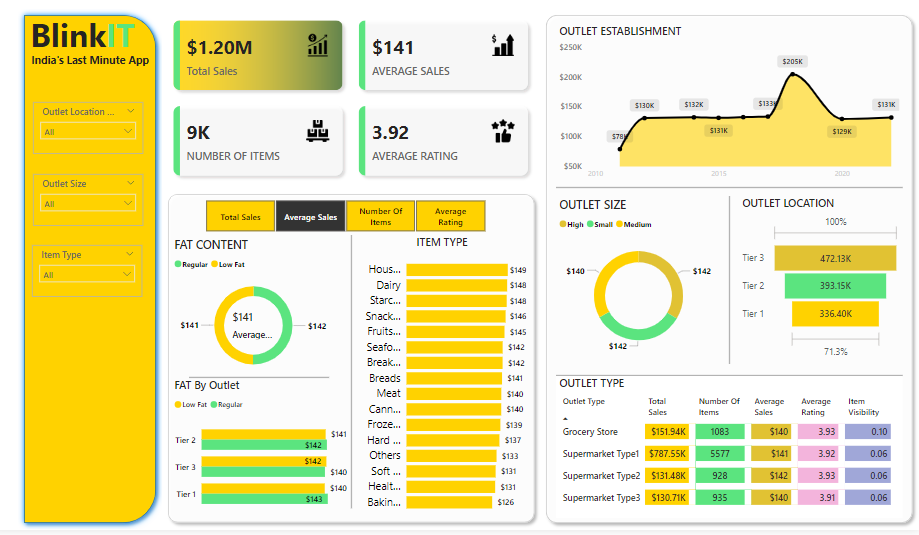

This screenshot's page, from the dashboard's own definition file:
{"tool":"powerbi","page":{"name":"Page 1","canvas":[1400,800],"ordinal":0},"visuals":[{"type":"shape","box":[42.3,16.5,216.8,782.7],"z":0},{"type":"textbox","box":[55.1,16.5,203.9,80.8],"z":1000},{"type":"textbox","box":[42.3,77.2,216.8,40.4],"z":2000},{"type":"cardVisual","fields":{"Data":["BlinkIT Grocery Data.Total Sales","BlinkIT Grocery Data.Average Sales","BlinkIT Grocery Data.Number Of Items","BlinkIT Grocery Data.Average Rating"]},"box":[258.9,16.6,569,269.5],"z":3000},{"type":"shape","box":[259.1,286.6,569.6,512.6],"z":4000},{"type":"donutChart","title":"FAT CONTENT","fields":{"Y":["BlinkIT Grocery Data.Average Sales"],"Category":["BlinkIT Grocery Data.Item Fat Content"]},"box":[271.9,358.3,248,218.6],"z":5000},{"type":"cardVisual","fields":{"Data":["BlinkIT Grocery Data.Average Sales"]},"box":[347.7,451.6,99.4,67.7],"z":6000},{"type":"slicer","fields":{"Values":["metrics.metrics"]},"box":[299.6,298.1,469.7,60.2],"z":7000},{"type":"clusteredBarChart","title":"FAT By Outlet","fields":{"Y":["BlinkIT Grocery Data.Average Sales"],"Category":["BlinkIT Grocery Data.Outlet Location Type"],"Series":["BlinkIT Grocery Data.Item Fat Content"]},"box":[272.5,572,271,212.3],"z":8000},{"type":"shape","box":[299.5,551.2,211.3,40.4],"z":9000},{"type":"shape","box":[503.4,356.4,82.7,411.5],"z":10000},{"type":"barChart","title":"ITEM TYPE","fields":{"Y":["BlinkIT Grocery Data.Average Sales"],"Category":["BlinkIT Grocery Data.Item Type"]},"box":[547.5,356.4,264.6,426.2],"z":11000},{"type":"shape","box":[828.6,16.5,569.6,782.7],"z":12000},{"type":"lineChart","title":"OUTLET ESTABLISHMENT","fields":{"Category":["BlinkIT Grocery Data.Outlet Establishment Year"],"Y":["BlinkIT Grocery Data.Total Sales"]},"box":[852.5,38.6,521.8,242.5],"z":13000},{"type":"shape","box":[852,264.9,522.4,40.6],"z":14000},{"type":"donutChart","title":"OUTLET SIZE","fields":{"Y":["BlinkIT Grocery Data.Average Sales"],"Category":["BlinkIT Grocery Data.Outlet Size"]},"box":[852,298.1,248.4,249.9],"z":15000},{"type":"shape","box":[1071.8,298.1,82.8,252.9],"z":16000},{"type":"funnel","title":"OUTLET LOCATION","fields":{"Category":["BlinkIT Grocery Data.Outlet Location Type"],"Y":["Sum(BlinkIT Grocery Data.Sales)"]},"box":[1127.5,298.1,246.9,249.9],"z":17000},{"type":"shape","box":[852,548,522.4,40.6],"z":18000},{"type":"pivotTable","title":"OUTLET TYPE","fields":{"Rows":["BlinkIT Grocery Data.Outlet Type"],"Values":["BlinkIT Grocery Data.Total Sales","BlinkIT Grocery Data.Number Of Items","BlinkIT Grocery Data.Average Sales","BlinkIT Grocery Data.Average Rating","Avg(BlinkIT Grocery Data.Item Visibility)"]},"box":[852,569,522.4,213.8],"z":19000},{"type":"slicer","fields":{"Values":["BlinkIT Grocery Data.Outlet Location Type"]},"box":[64.7,156.6,165.6,78.3],"z":20000},{"type":"slicer","fields":{"Values":["BlinkIT Grocery Data.Outlet Size"]},"box":[64.7,264.9,165.6,78.3],"z":21000},{"type":"slicer","fields":{"Values":["BlinkIT Grocery Data.Item Type"]},"box":[63.2,371.8,165.6,78.3],"z":22000}]}

Visuals, with their boxes in screenshot pixels (x1, y1, x2, y2), scaled from the page's 1400x800 canvas onto the 919x535 screenshot:
shape: [left=28, top=11, right=170, bottom=534]
textbox: [left=36, top=11, right=170, bottom=65]
textbox: [left=28, top=52, right=170, bottom=79]
cardVisual - BlinkIT Grocery Data.Total Sales x BlinkIT Grocery Data.Average Sales: [left=170, top=11, right=543, bottom=191]
shape: [left=170, top=192, right=544, bottom=534]
"FAT CONTENT" donutChart: [left=178, top=240, right=341, bottom=386]
cardVisual - BlinkIT Grocery Data.Average Sales: [left=228, top=302, right=293, bottom=347]
slicer - metrics.metrics: [left=197, top=199, right=505, bottom=240]
"FAT By Outlet" clusteredBarChart: [left=179, top=383, right=357, bottom=525]
shape: [left=197, top=369, right=335, bottom=396]
shape: [left=330, top=238, right=385, bottom=514]
"ITEM TYPE" barChart: [left=359, top=238, right=533, bottom=523]
shape: [left=544, top=11, right=918, bottom=534]
"OUTLET ESTABLISHMENT" lineChart: [left=560, top=26, right=902, bottom=188]
shape: [left=559, top=177, right=902, bottom=204]
"OUTLET SIZE" donutChart: [left=559, top=199, right=722, bottom=366]
shape: [left=704, top=199, right=758, bottom=368]
"OUTLET LOCATION" funnel: [left=740, top=199, right=902, bottom=366]
shape: [left=559, top=366, right=902, bottom=394]
"OUTLET TYPE" pivotTable: [left=559, top=381, right=902, bottom=523]
slicer - BlinkIT Grocery Data.Outlet Location Type: [left=42, top=105, right=151, bottom=157]
slicer - BlinkIT Grocery Data.Outlet Size: [left=42, top=177, right=151, bottom=230]
slicer - BlinkIT Grocery Data.Item Type: [left=41, top=249, right=150, bottom=301]
